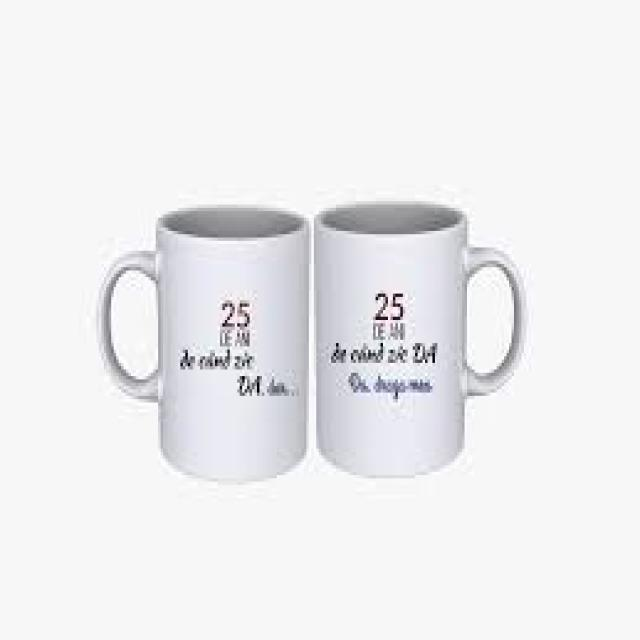taza: (82, 202, 315, 484), (316, 188, 534, 486)
